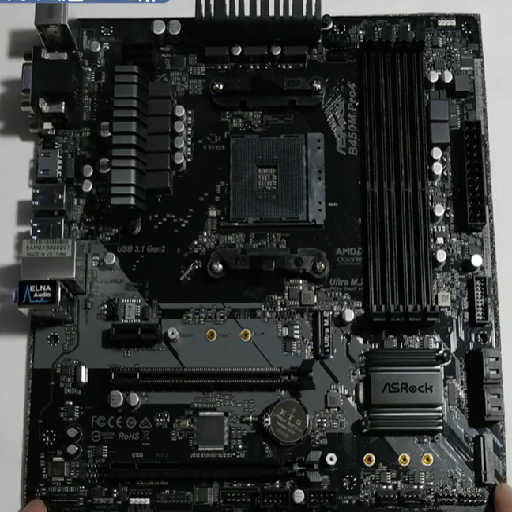CPU: (211, 119, 337, 231)
GPU: (96, 354, 320, 395), (98, 449, 331, 484)
MOTHERBOARD: (14, 6, 503, 512)
RAM: (342, 24, 452, 324)
SSD: (307, 305, 338, 362)
